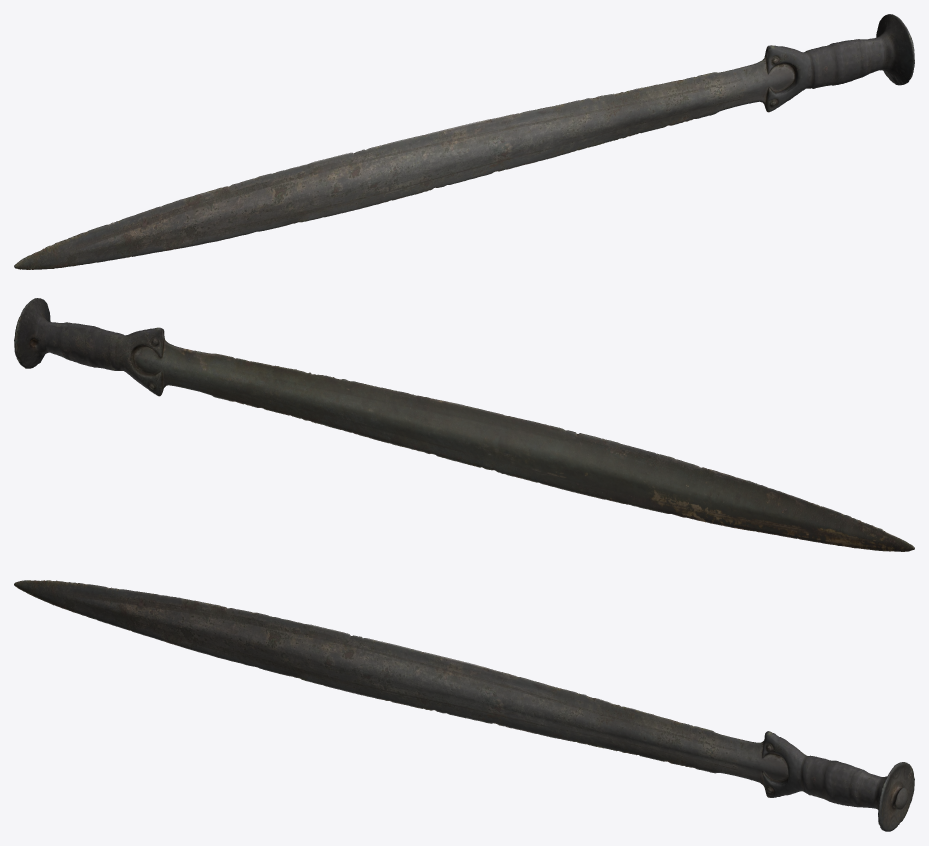
The model's file is bronze_age_sword_oc078.glb.
3 views of the same model, one above another, from view 1: azimuth 30°, elevation 25°; view 2: azimuth 150°, elevation 25°; view 3: azimuth 330°, elevation 25° (orthographic).
Parts seen in each view (by area): view 1: Celtic_Bronze_Leaf; view 2: Celtic_Bronze_Leaf; view 3: Celtic_Bronze_Leaf.
Boxes of the visible parts, x1,y1,x2,y2 form: Celtic_Bronze_Leaf: (14,14,914,269); Celtic_Bronze_Leaf: (14,298,914,551); Celtic_Bronze_Leaf: (14,580,914,831).
Size of the model in its own units: 72.47 by 5.26 by 5.01.
1 material, 1 textured.
